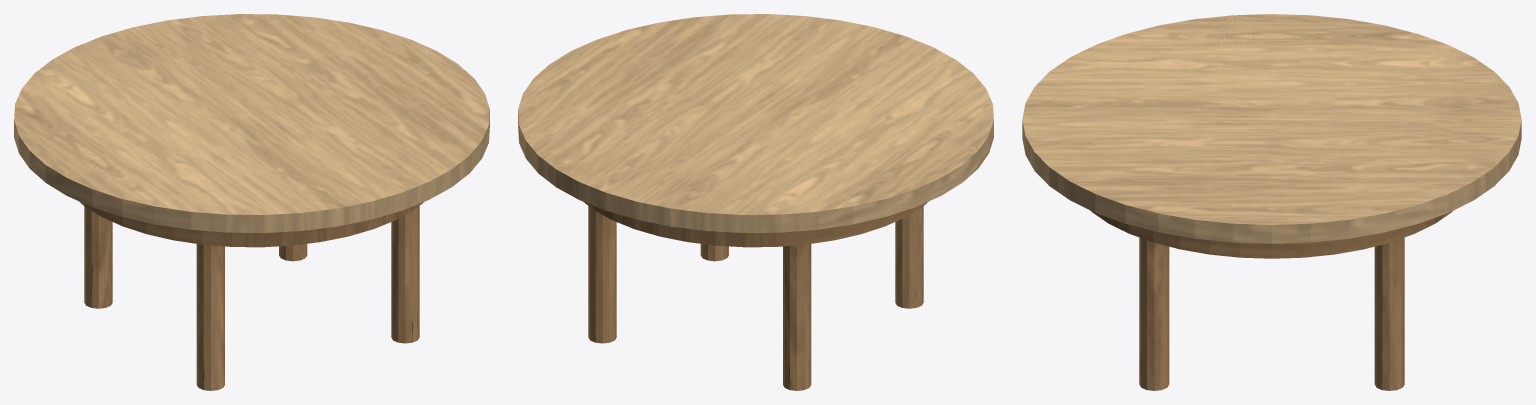
File: coffee-table.glb
The picture shows the model from 3 angles, left to right: view 1: azimuth 30°, elevation 25°; view 2: azimuth 150°, elevation 25°; view 3: azimuth 270°, elevation 25°; orthographic projection. The views are drawn at different scales.
Parts seen in each view (by area): view 1: coffee-table; view 2: coffee-table; view 3: coffee-table.
Part boxes in pixels (<box>): coffee-table: <box>14,14,489,390</box>; coffee-table: <box>518,14,993,390</box>; coffee-table: <box>1022,14,1521,390</box>.
Size of the model in its own units: 0.84 by 0.4 by 0.84.
1 material, 1 textured.
